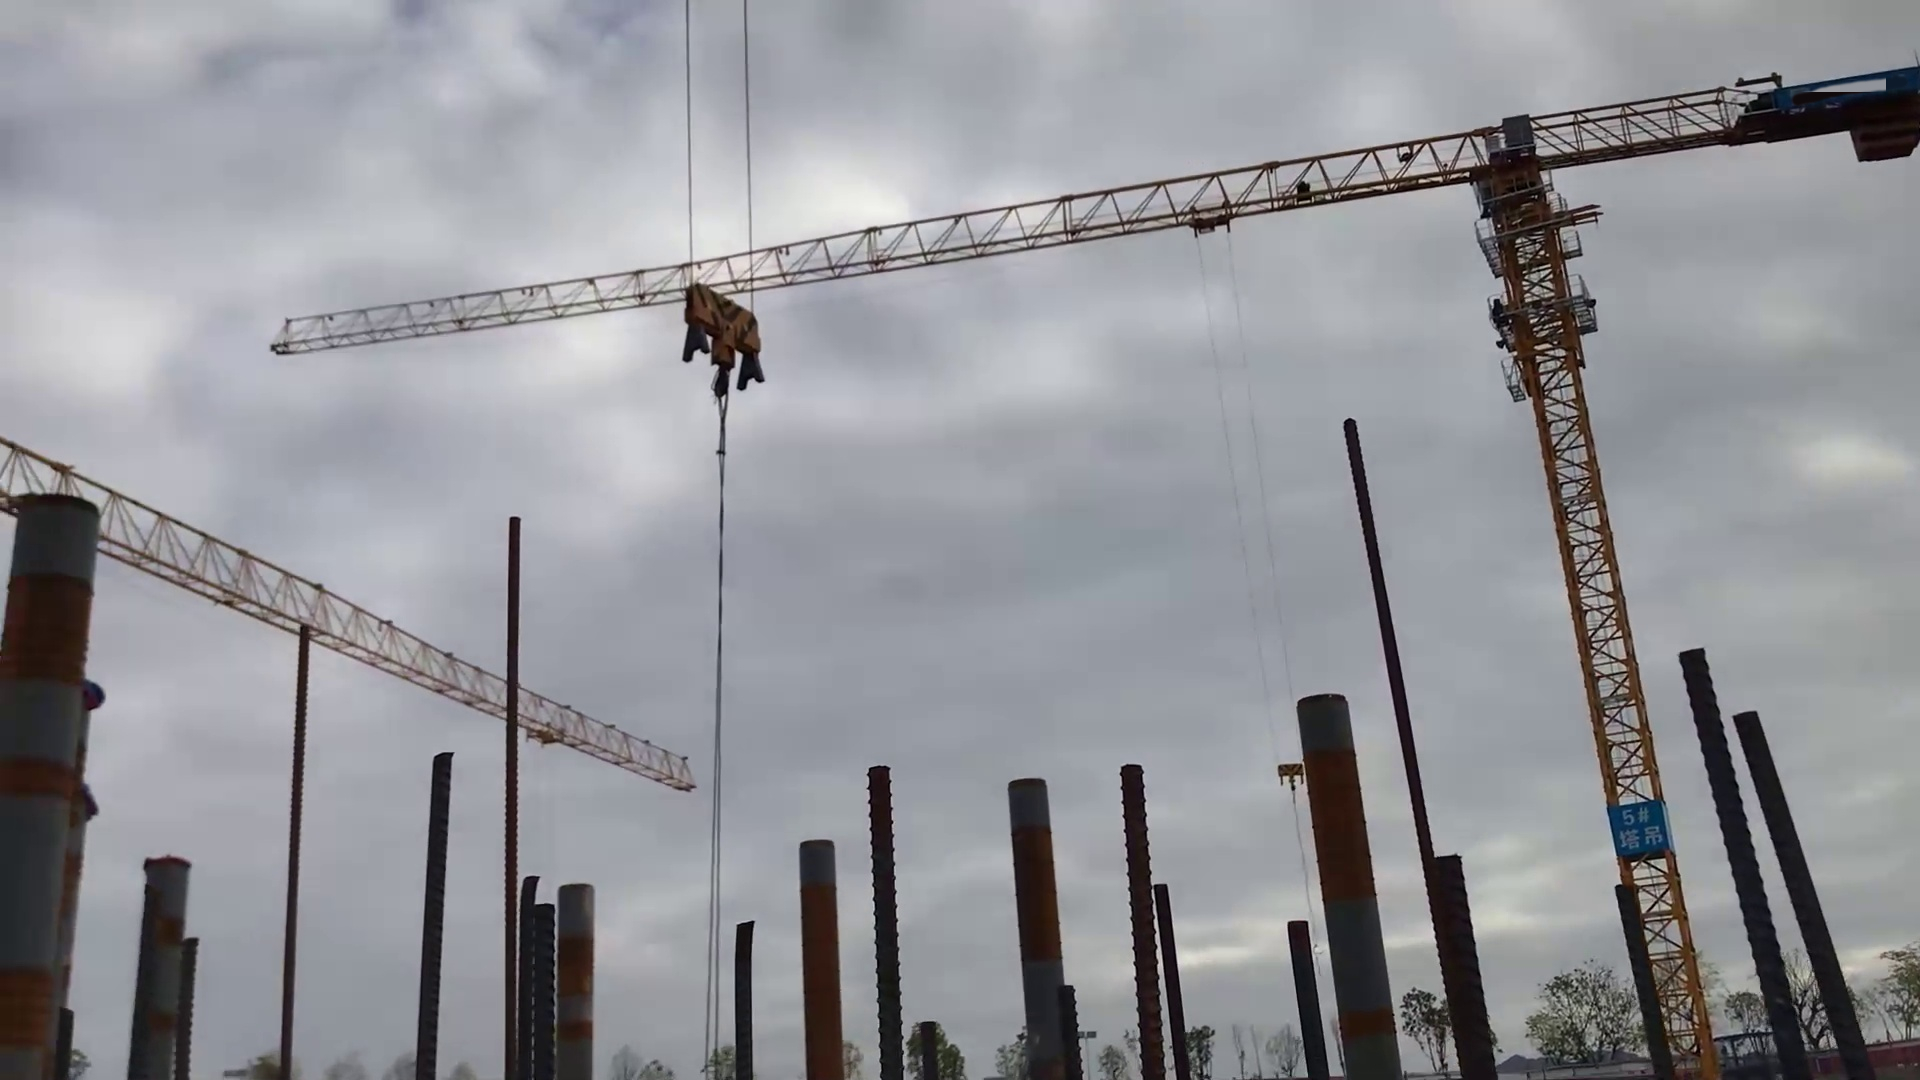hook: (674, 269, 769, 397), (1262, 748, 1311, 798)
slogan: (1602, 799, 1685, 876)
